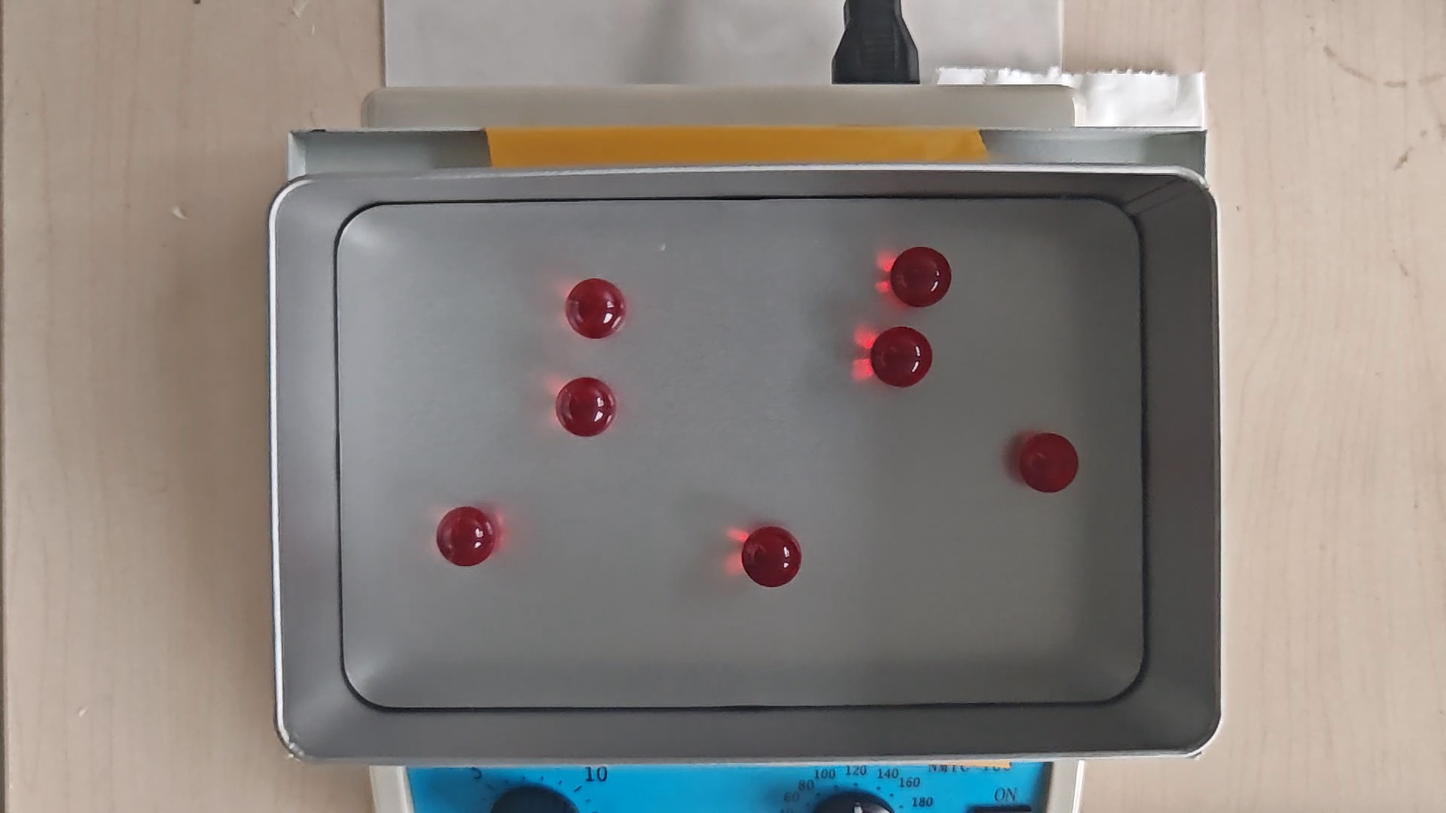ball: (870, 325, 935, 391), (889, 246, 953, 311), (434, 505, 499, 568), (1018, 431, 1079, 496), (740, 526, 803, 588), (566, 277, 627, 341), (554, 376, 618, 437)
container: (335, 198, 1146, 708)
